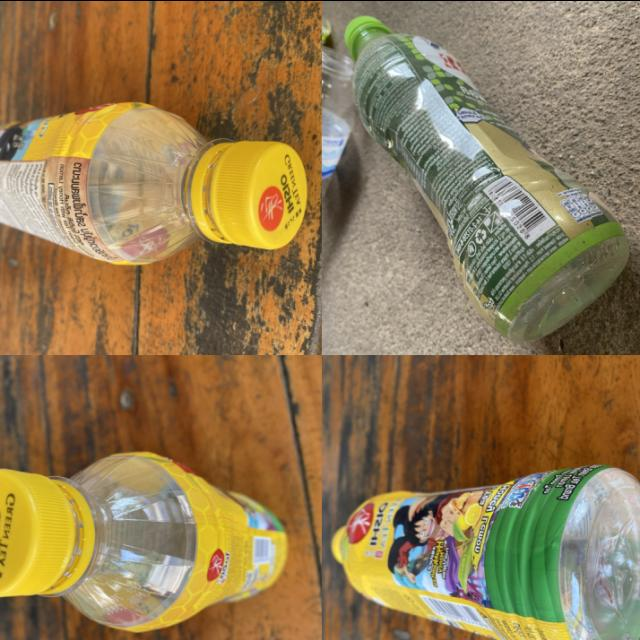plastik: (344, 15, 629, 341), (332, 465, 640, 640), (0, 452, 287, 631), (0, 102, 306, 263)
